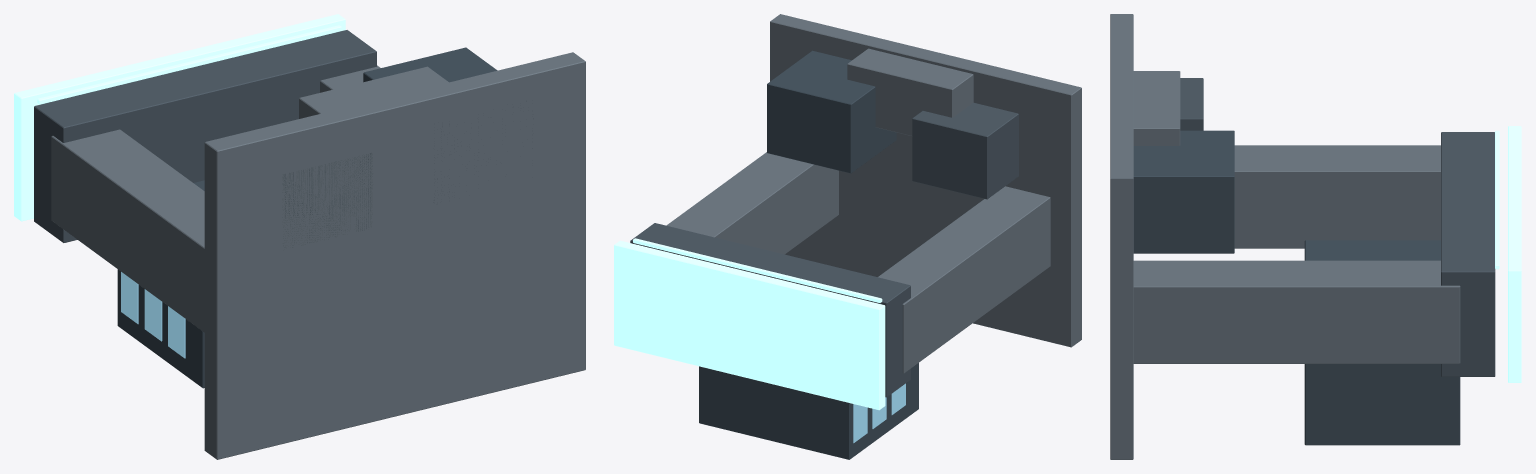
File: mass_gantry_block_rift_r.glb
3 views of the same model, side by side, from view 1: azimuth 30°, elevation 25°; view 2: azimuth 150°, elevation 25°; view 3: azimuth 270°, elevation 25° (orthographic). The views are drawn at different scales.
Parts seen in each view (by area): view 1: FlightKit_MassGantry_rift_R; view 2: FlightKit_MassGantry_rift_R; view 3: FlightKit_MassGantry_rift_R.
Part boxes in pixels (<box>): FlightKit_MassGantry_rift_R: <box>14,14,585,459</box>; FlightKit_MassGantry_rift_R: <box>614,14,1081,459</box>; FlightKit_MassGantry_rift_R: <box>1110,14,1521,459</box>.
Size of the model in its own units: 10 by 8.75 by 10.57.
